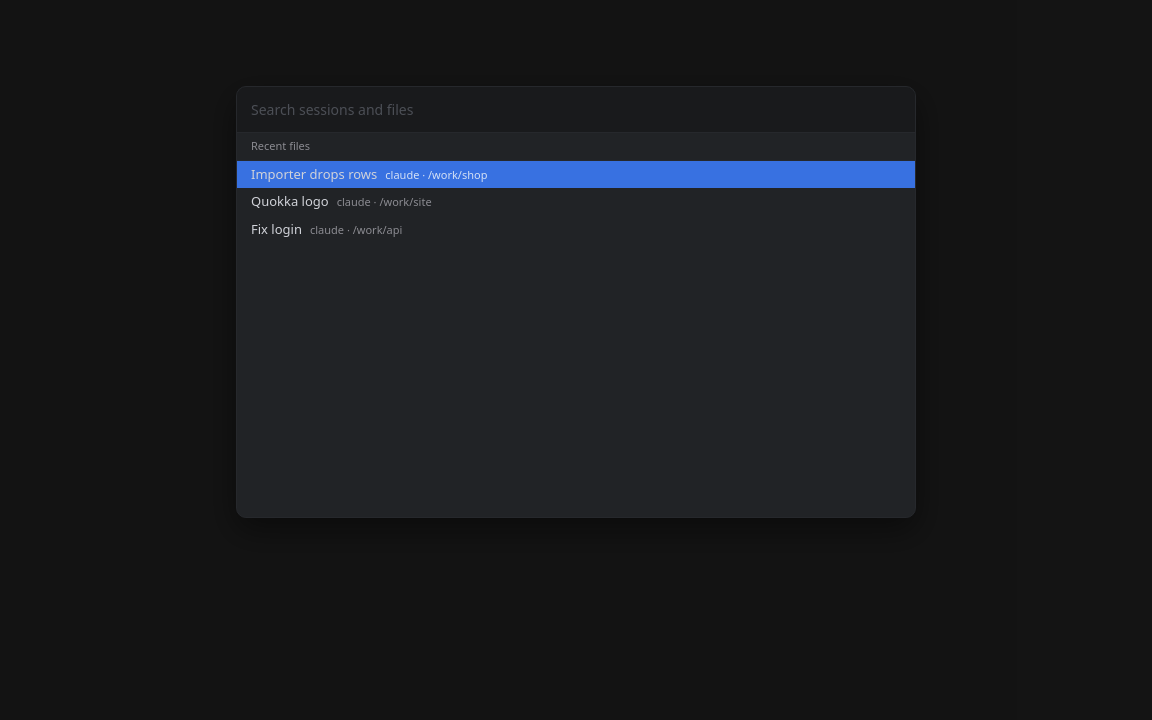
Test: GoToFile — sessions › finds a past conversation by what was said in it, after those its name matches
The image size is (1152, 720).
Type "quokka" into the dropdown at (576, 110), box [237, 87, 915, 133]
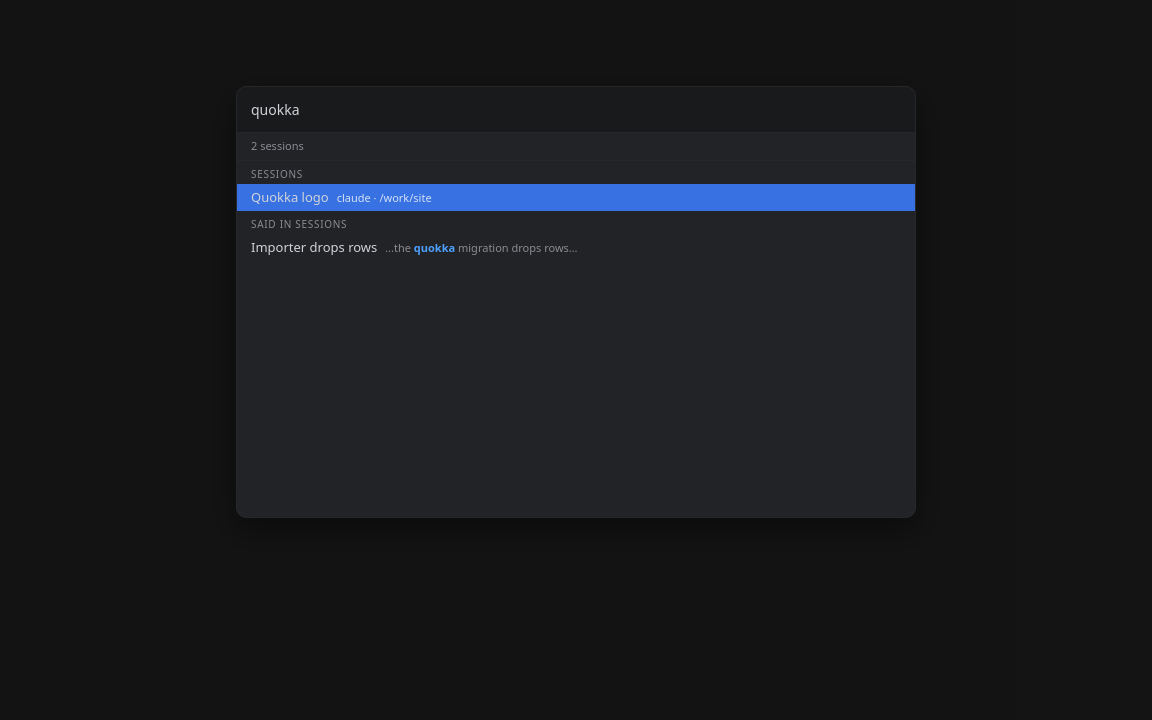
Expected: the options read "Quokka logoclaude · /work/site", "Importer drops rows…the quokka migration drops rows…", in this order, [237, 184, 915, 211]; [251, 238, 578, 256]
Expected: the text "quokka" is shown, [414, 240, 455, 255]
